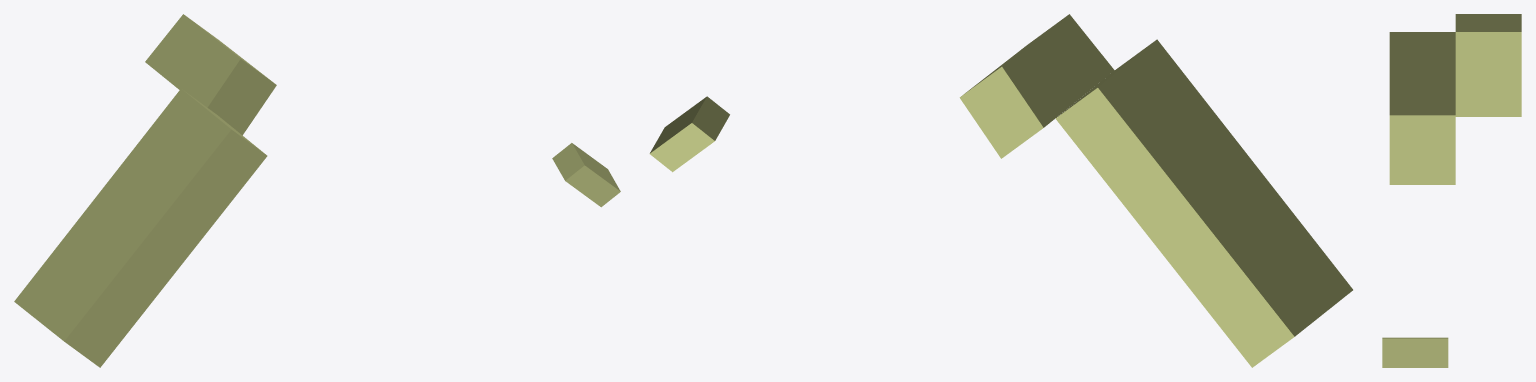
3 views of the same model, side by side, from view 1: azimuth 30°, elevation 25°; view 2: azimuth 150°, elevation 25°; view 3: azimuth 270°, elevation 25° (orthographic). The views are drawn at different scales.
Parts seen in each view (by area): view 1: 0_0_1_2_0_0_0_3; view 2: 0_0_1_2_0_0_0_3; view 3: 0_0_1_2_0_0_0_3.
Boxes of the visible parts, x1,y1,x2,y2 form: 0_0_1_2_0_0_0_3: (14, 14, 620, 367); 0_0_1_2_0_0_0_3: (649, 14, 1352, 367); 0_0_1_2_0_0_0_3: (1382, 14, 1521, 367).
Size of the model in its own units: 81.51 by 36.17 by 19.
